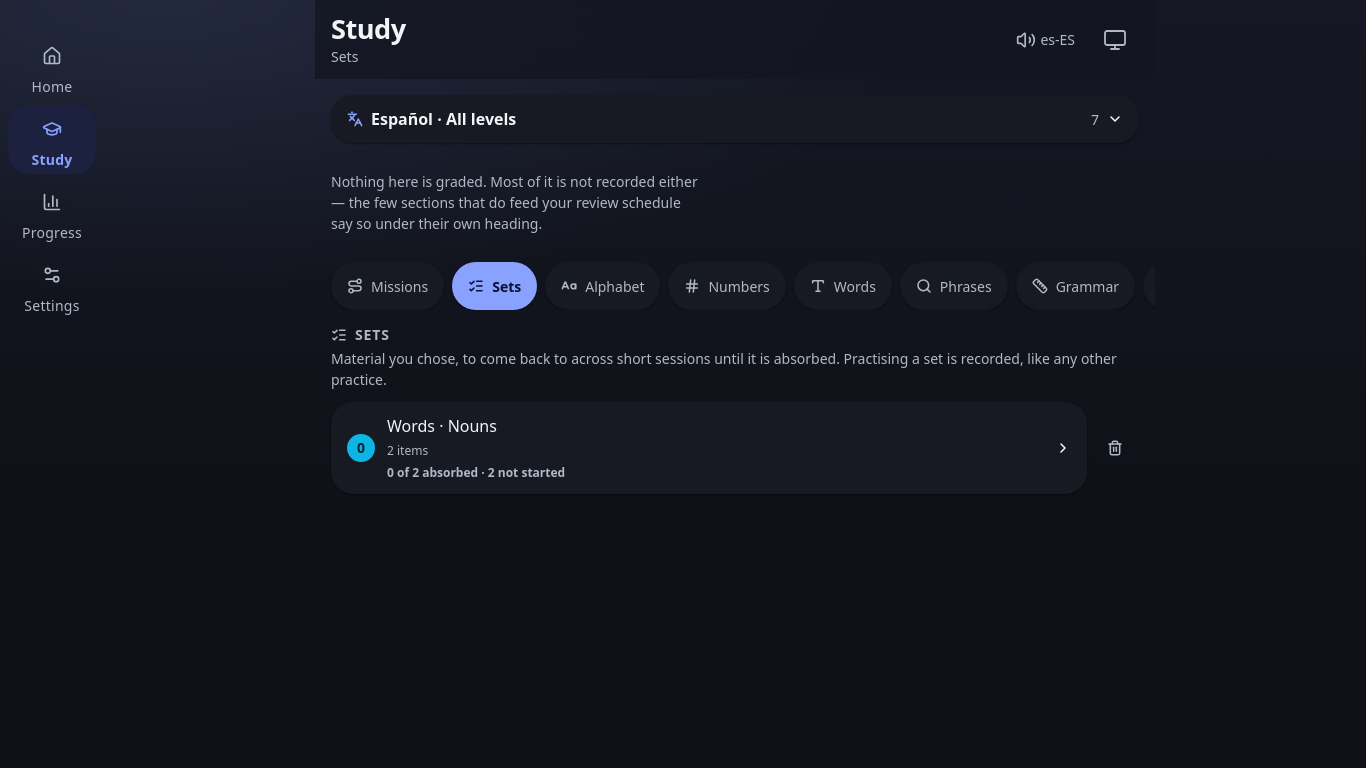
Scenario: listing sets on Study › keeps the set when the confirm is declined
Click the button named "Remove Words · Nouns" at (1115, 448), box [1091,424,1139,472]
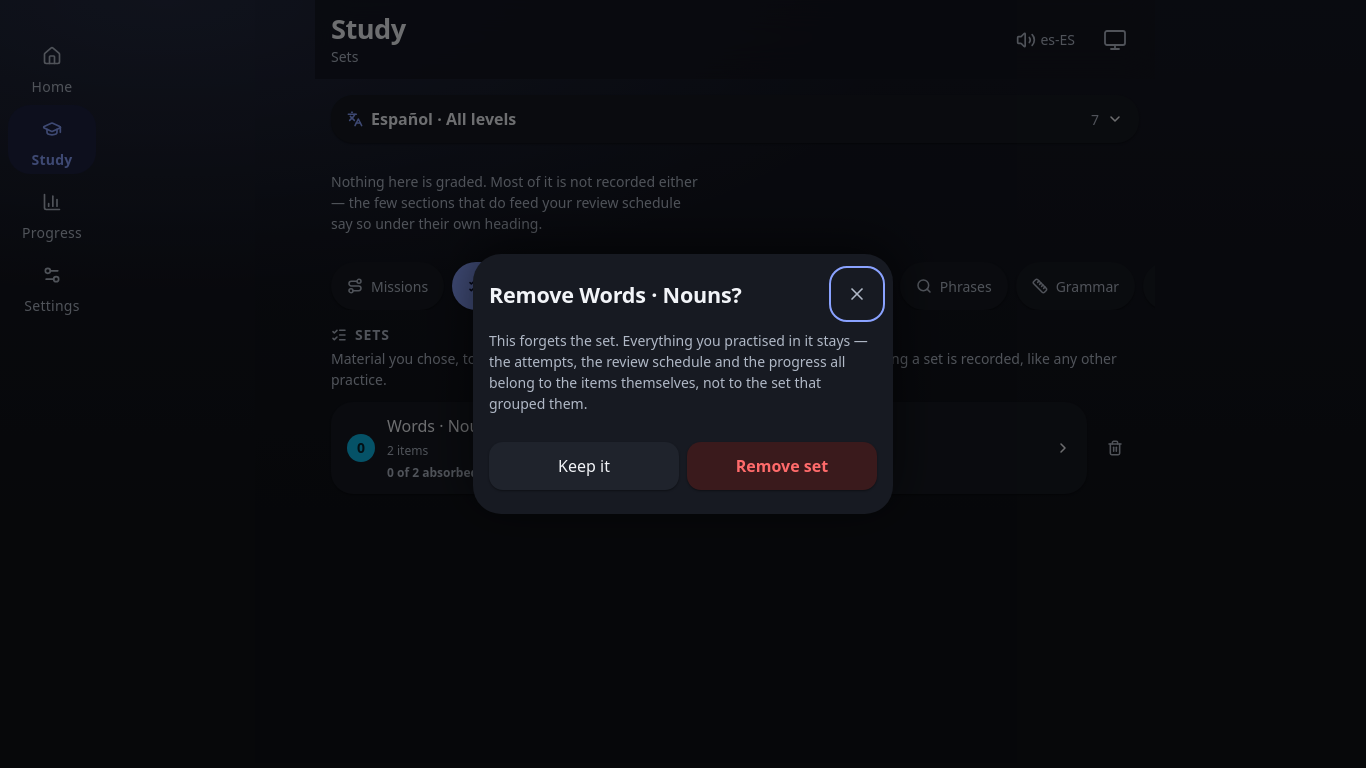
Click the button "Keep it" at (584, 466), box [489,442,679,490]
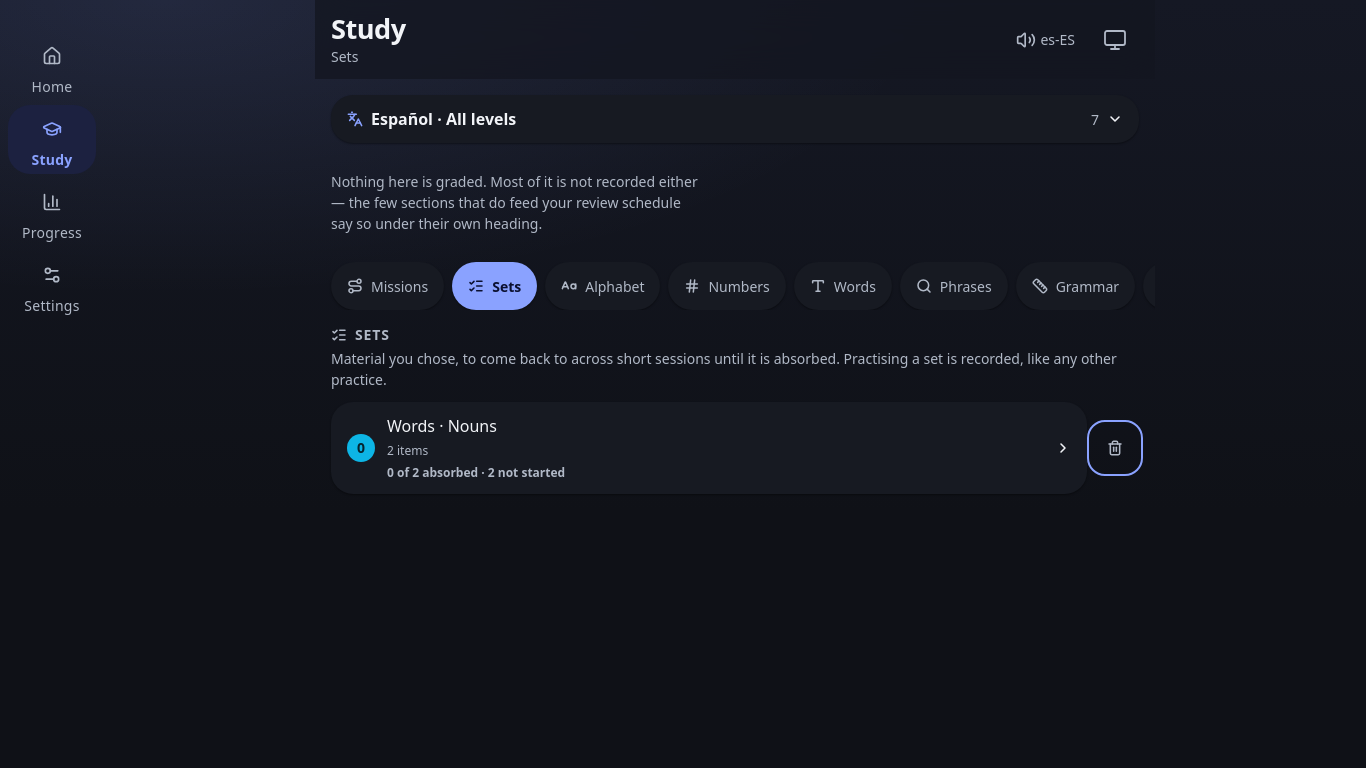
Expected: the link "0 Words · Nouns 2 items 0 of 2 absorbed · 2 not started" is shown, [331,402,1087,494]
Result: the dialog is gone
